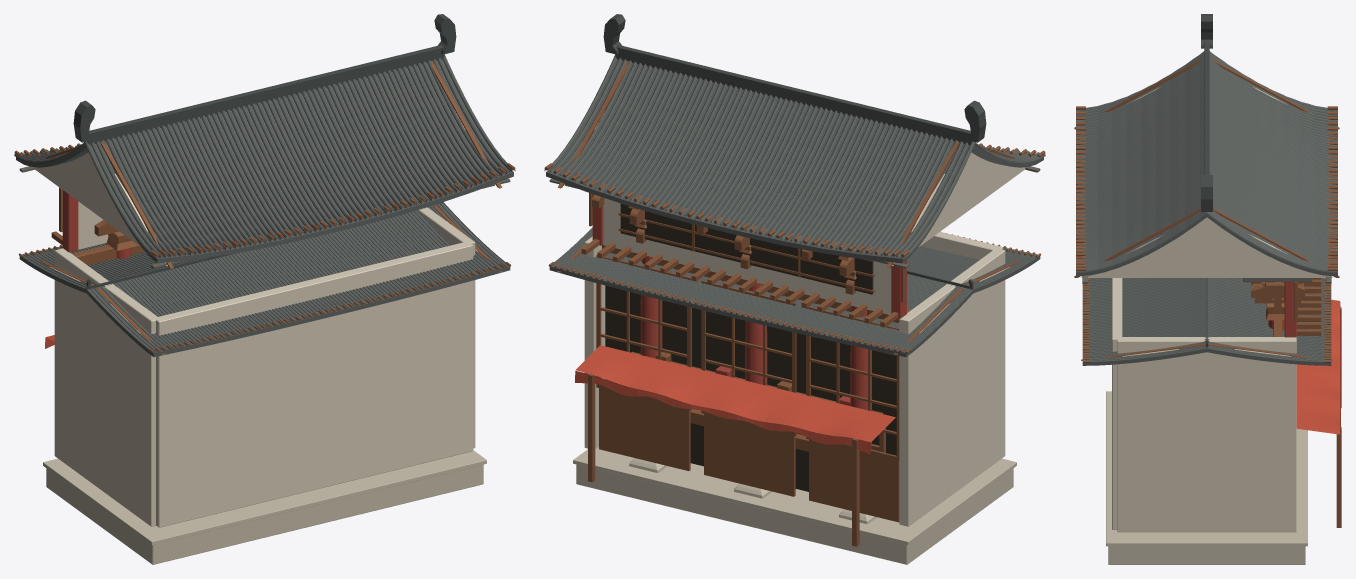
File: shop-double-shijing.glb
The picture shows the model from 3 angles, left to right: view 1: azimuth 30°, elevation 25°; view 2: azimuth 150°, elevation 25°; view 3: azimuth 270°, elevation 25°; orthographic projection. The views are drawn at different scales.
Visible parts, largest first — view 1: shop_double_shijing; view 2: shop_double_shijing; view 3: shop_double_shijing.
Boxes of the visible parts, <box> form: shop_double_shijing: <box>14,14,515,564</box>; shop_double_shijing: <box>544,14,1045,564</box>; shop_double_shijing: <box>1074,14,1341,564</box>.
Bounding box in the file's own units: 7.89 × 8.54 × 5.24.
